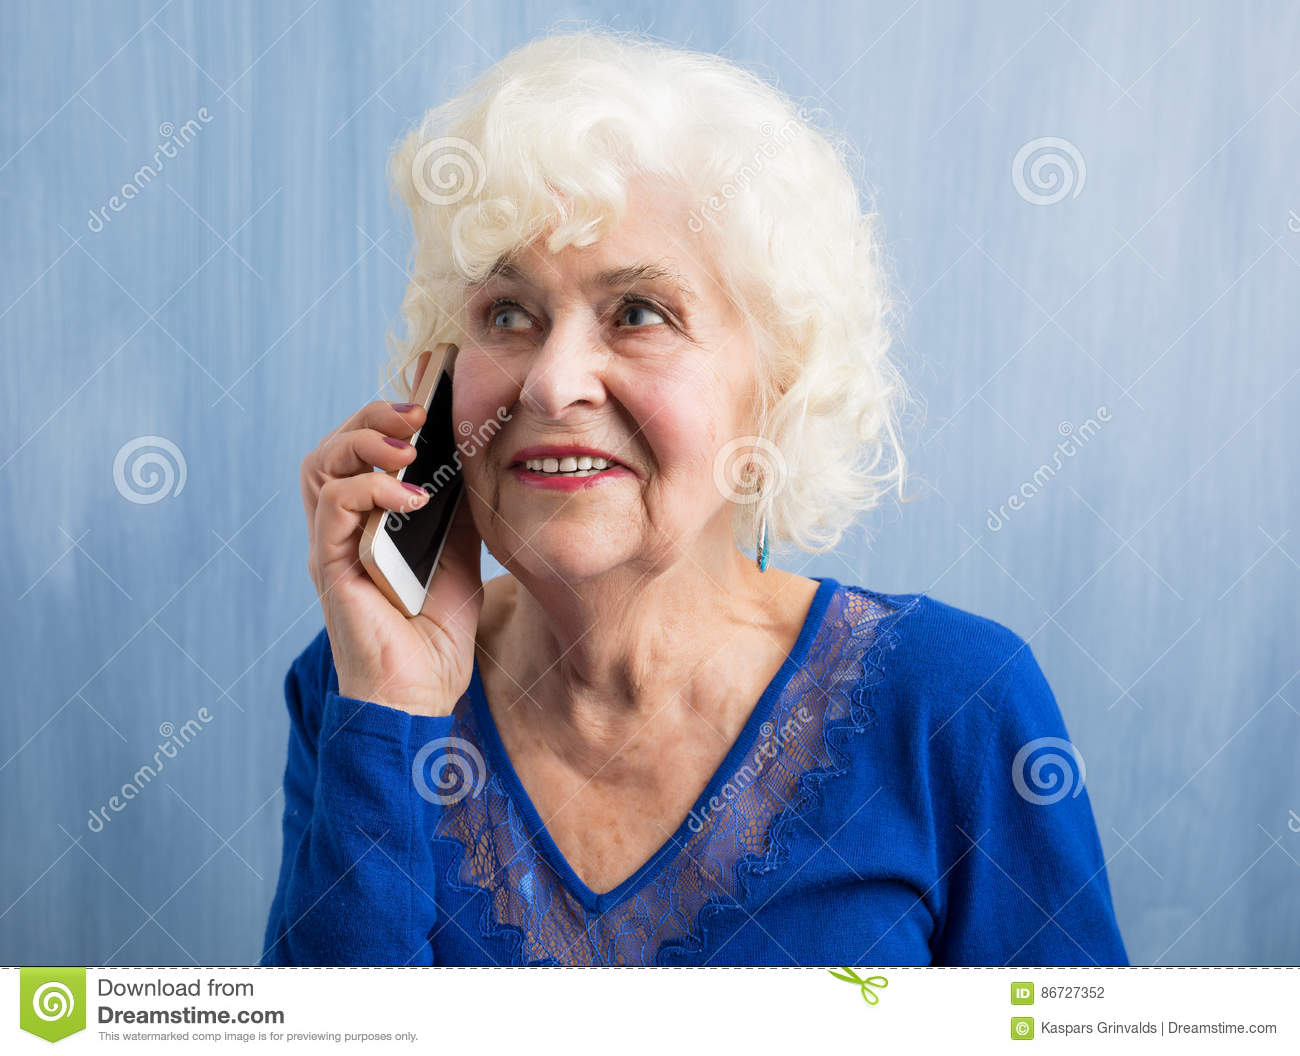phone: (366, 326, 469, 616)
talk: (299, 239, 725, 741)
